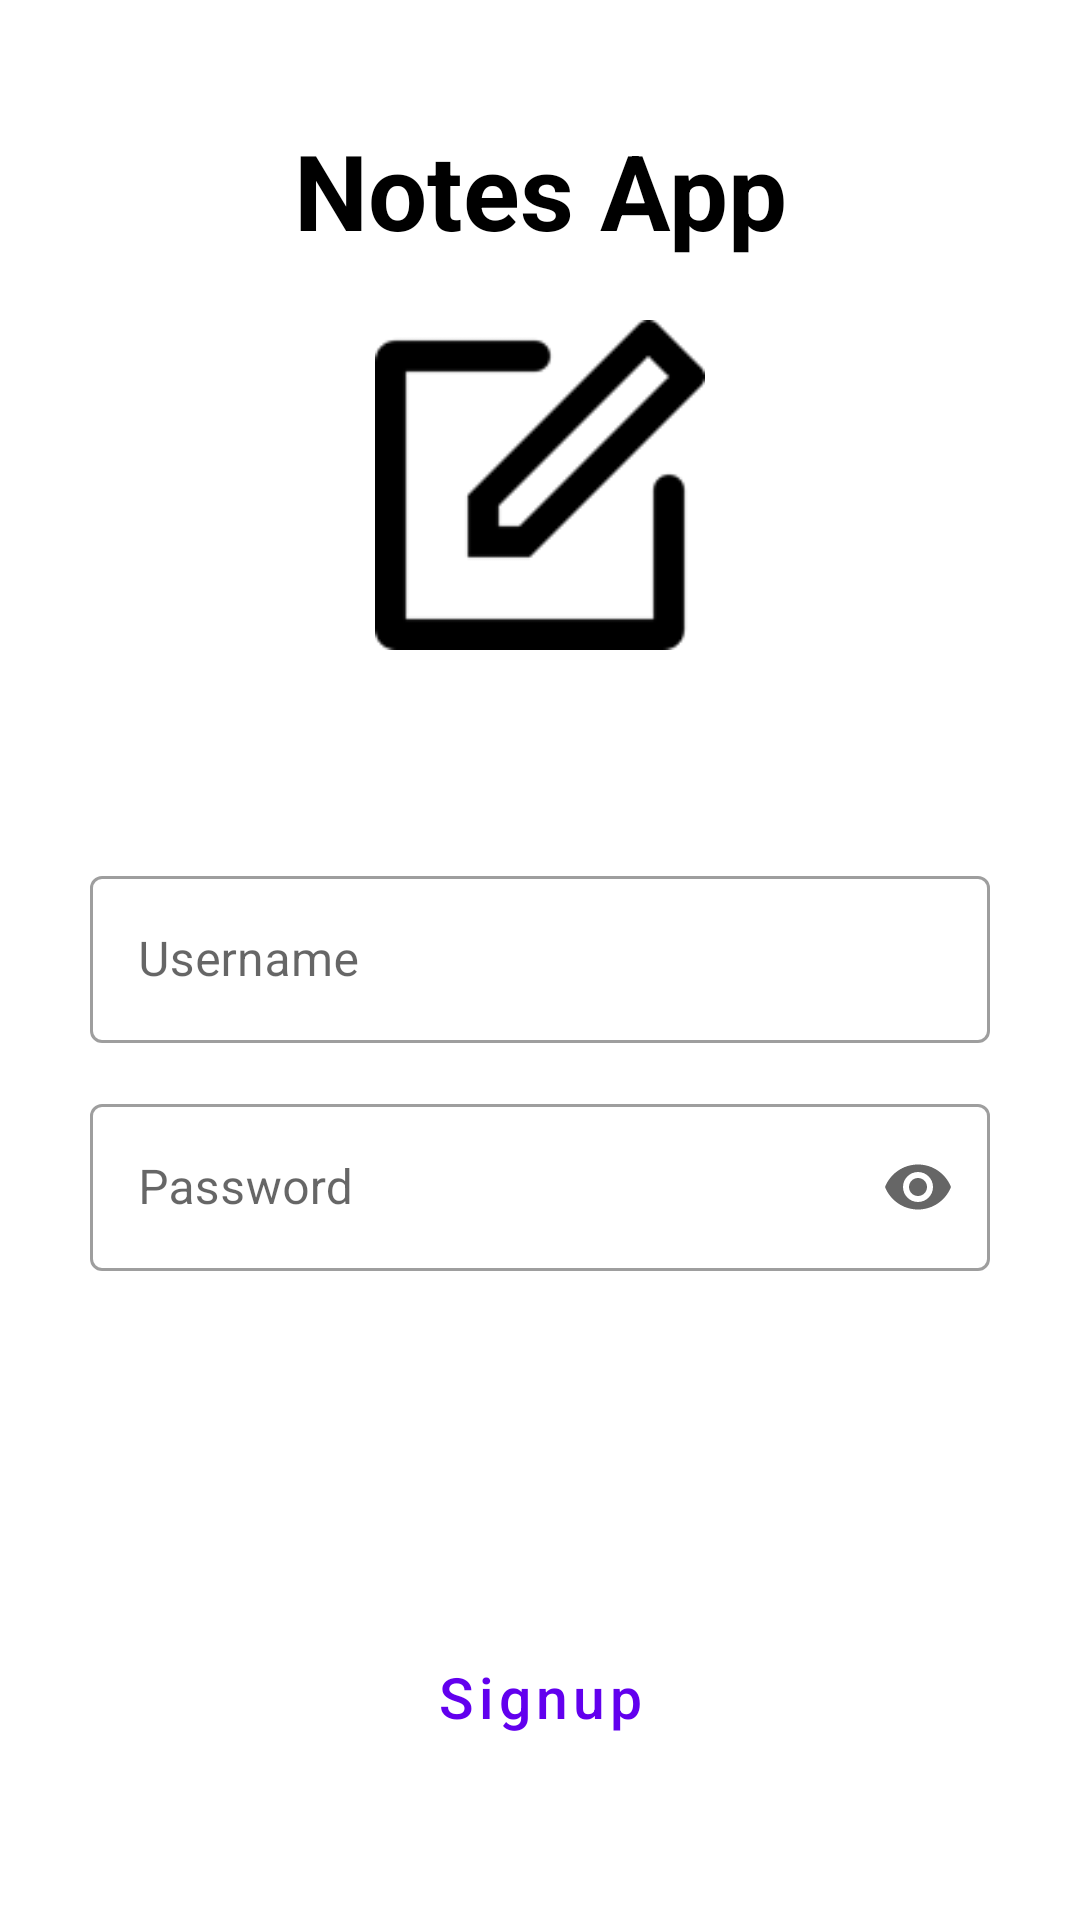

Icon click points for this 1080 × 1920 phone screenshot, format (x,y):
edit note: (540,485)
